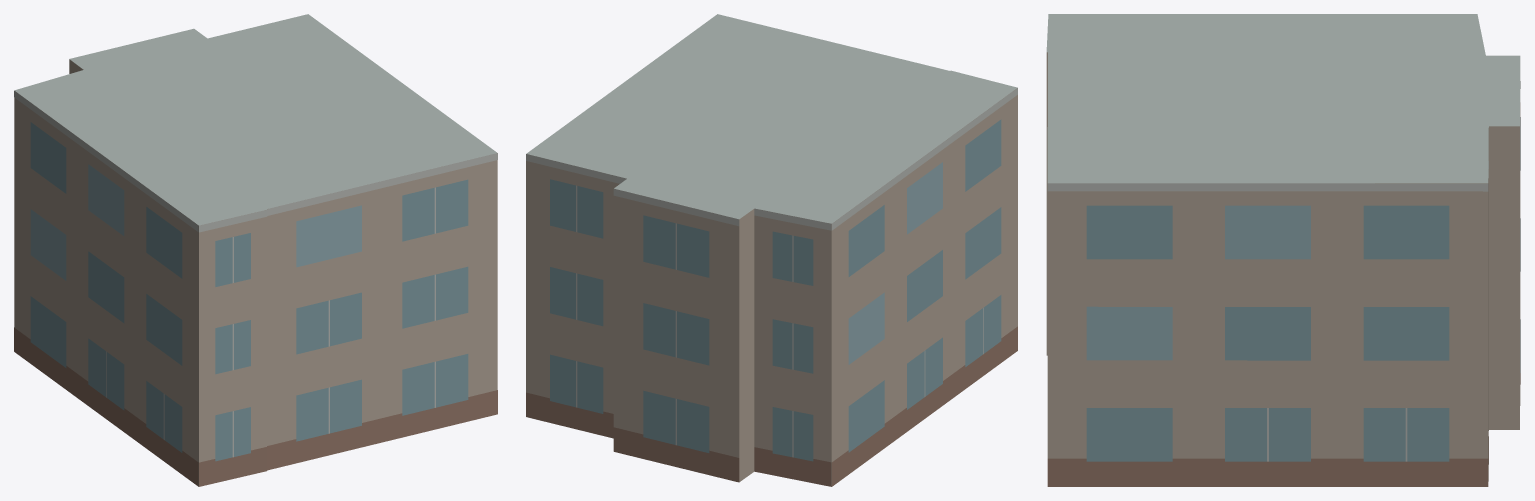
Rendered from survey-upis-32841452.glb.
The picture shows the model from 3 angles, left to right: view 1: azimuth 30°, elevation 25°; view 2: azimuth 150°, elevation 25°; view 3: azimuth 270°, elevation 25°; orthographic projection. The views are drawn at different scales.
Visible parts, largest first — view 1: survey-upis-32841452.tmp; view 2: survey-upis-32841452.tmp; view 3: survey-upis-32841452.tmp.
Part boxes in pixels (left/top/right/bottom): survey-upis-32841452.tmp: left=14, top=14, right=497, bottom=486; survey-upis-32841452.tmp: left=526, top=14, right=1017, bottom=486; survey-upis-32841452.tmp: left=1046, top=14, right=1520, bottom=486.
Size of the model in its own units: 10.97 by 9.15 by 12.96.
